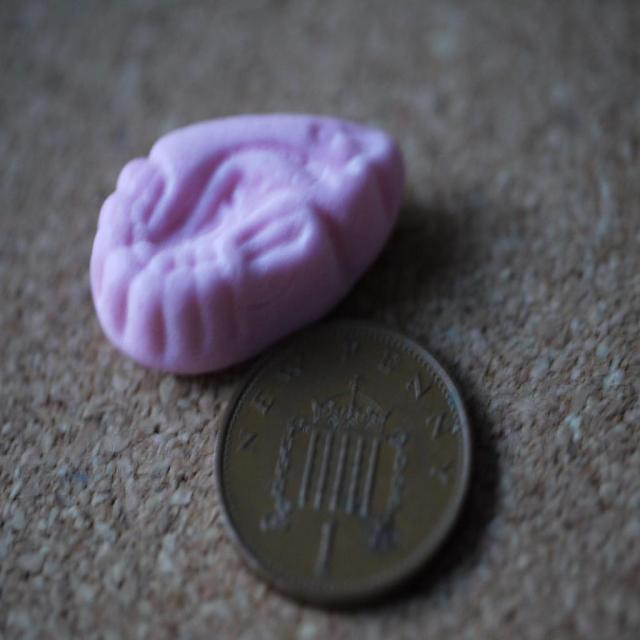Coin: (219, 324, 478, 618)
